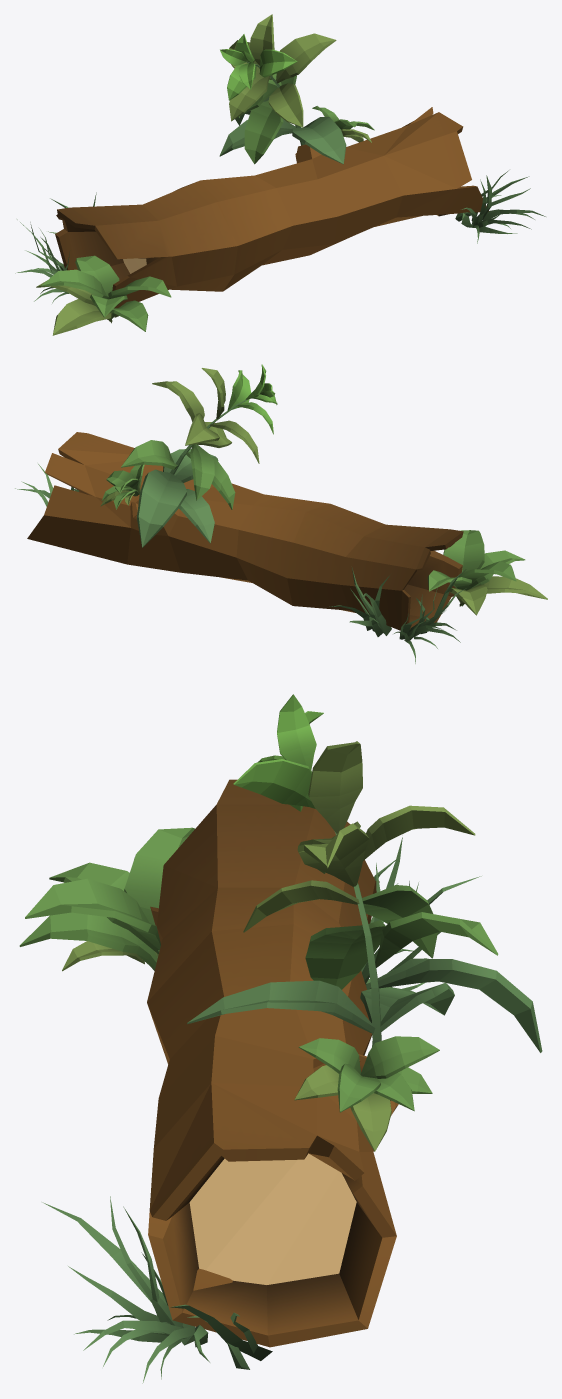
Rendered from TreeLog_A-01.fbx.
3 renders of one model, top to bottom at view 1: azimuth 30°, elevation 25°; view 2: azimuth 150°, elevation 25°; view 3: azimuth 270°, elevation 25°, orthographic. The views are drawn at different scales.
Visible parts, largest first — view 1: TreeLog_A-01; view 2: TreeLog_A-01; view 3: TreeLog_A-01.
Part boxes in pixels (x1,y1,x2,y2): TreeLog_A-01: (15, 14, 545, 335); TreeLog_A-01: (15, 364, 547, 663); TreeLog_A-01: (19, 694, 542, 1383).
Size of the model in its own units: 3969 by 1799 by 1778.
